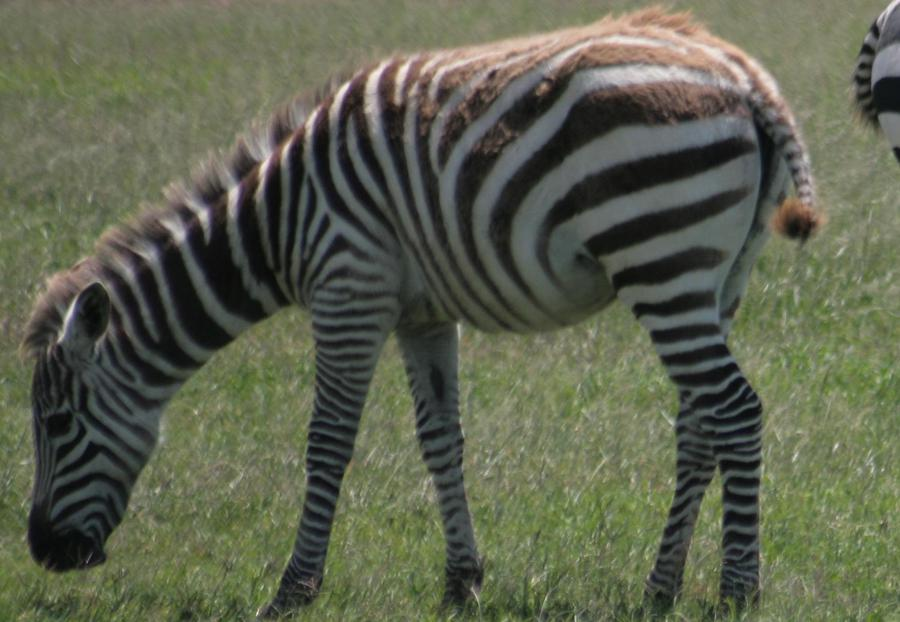zebra_plains: (271, 43, 771, 357)
